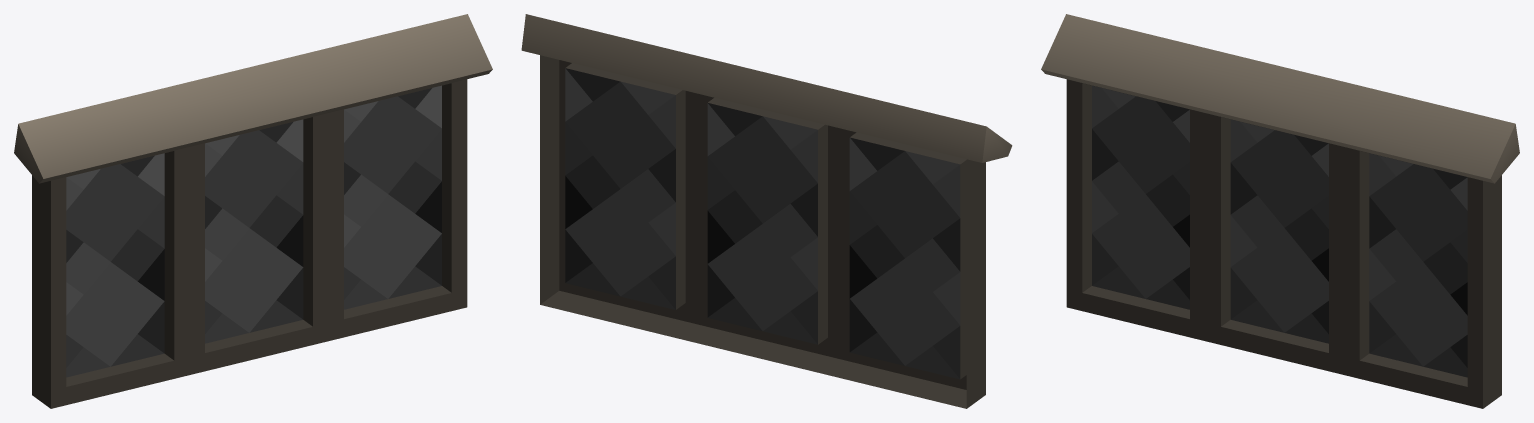
File: Window-Wide_B.fbx
3 renders of one model, left to right at view 1: azimuth 30°, elevation 25°; view 2: azimuth 150°, elevation 25°; view 3: azimuth 330°, elevation 25°, orthographic. The views are drawn at different scales.
Visible parts, largest first — view 1: Window-Wide_B; view 2: Window-Wide_B; view 3: Window-Wide_B.
Boxes of the visible parts, left/top/right/bottom form: Window-Wide_B: left=14, top=14, right=492, bottom=408; Window-Wide_B: left=521, top=14, right=1012, bottom=408; Window-Wide_B: left=1041, top=14, right=1519, bottom=408.
Size of the model in its own units: 270 by 159 by 30.62.
